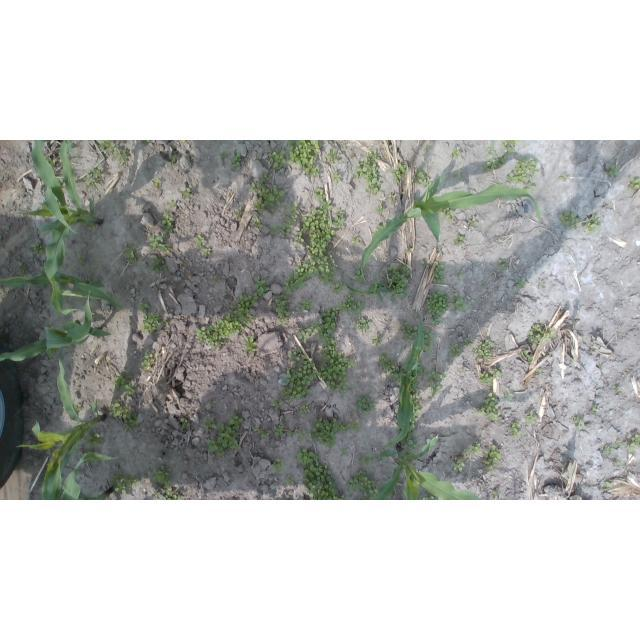Maize: (363, 176, 542, 279), (18, 141, 102, 318), (17, 358, 103, 500), (0, 287, 110, 361), (359, 436, 483, 500), (385, 313, 425, 447), (1, 273, 124, 311), (41, 448, 116, 501)
Weeds: (195, 294, 259, 348), (302, 200, 339, 285), (297, 448, 346, 501), (320, 340, 356, 395), (281, 359, 322, 402), (208, 413, 242, 459), (354, 150, 382, 195), (312, 417, 347, 448), (282, 260, 311, 297), (110, 400, 142, 430), (506, 155, 538, 185), (288, 141, 323, 168), (347, 471, 379, 500), (387, 264, 412, 300), (426, 291, 450, 326), (254, 187, 285, 214), (378, 353, 404, 384), (109, 471, 143, 493), (98, 140, 128, 164), (477, 392, 501, 422), (409, 379, 423, 429), (279, 200, 300, 233), (141, 313, 170, 335), (319, 308, 338, 341), (114, 371, 138, 395), (528, 323, 556, 343), (275, 295, 293, 326), (85, 428, 108, 450), (297, 321, 320, 343), (483, 445, 501, 472), (430, 370, 447, 398), (84, 164, 103, 189), (340, 294, 363, 314), (399, 432, 418, 456), (147, 255, 169, 275), (148, 235, 171, 254), (269, 146, 287, 170), (355, 395, 377, 414), (477, 338, 496, 360), (331, 207, 348, 231), (484, 155, 506, 173), (560, 211, 581, 229), (253, 276, 271, 296), (161, 485, 184, 500), (249, 173, 268, 191), (452, 292, 468, 313), (151, 465, 169, 483), (433, 262, 447, 285), (358, 453, 380, 467), (422, 329, 436, 351), (584, 215, 601, 233), (401, 321, 417, 340), (142, 351, 155, 373), (627, 432, 640, 453), (161, 214, 175, 233), (393, 164, 407, 183), (272, 457, 288, 473), (371, 277, 386, 294), (288, 347, 306, 361), (123, 245, 137, 263), (502, 141, 521, 154), (289, 430, 309, 442), (411, 167, 425, 184), (356, 317, 371, 332), (328, 148, 341, 165), (203, 418, 218, 431), (255, 427, 270, 440), (454, 459, 467, 474), (572, 417, 585, 432), (347, 421, 364, 432), (299, 299, 313, 312), (449, 344, 463, 357), (355, 269, 368, 283), (627, 176, 640, 190), (244, 336, 256, 351), (302, 167, 320, 177), (511, 422, 522, 438), (252, 216, 264, 230), (32, 242, 44, 256), (524, 409, 536, 423), (443, 207, 457, 219), (231, 151, 241, 167), (487, 140, 497, 156), (181, 418, 194, 430), (267, 223, 280, 235), (194, 233, 206, 246), (313, 187, 325, 200), (479, 372, 492, 384), (463, 335, 476, 347), (417, 362, 428, 376), (298, 402, 310, 414), (608, 166, 620, 178), (284, 473, 295, 486), (293, 230, 303, 244), (492, 368, 503, 380), (499, 260, 510, 272), (271, 399, 284, 409), (139, 300, 149, 313), (470, 444, 480, 457), (523, 183, 537, 192), (469, 217, 480, 228), (181, 187, 193, 197), (76, 251, 86, 263), (332, 282, 344, 292), (425, 493, 442, 500), (422, 438, 431, 451), (167, 156, 177, 167), (45, 155, 56, 165), (451, 147, 462, 157), (524, 350, 533, 362), (421, 260, 431, 270), (68, 146, 78, 156), (17, 261, 24, 275), (506, 391, 515, 401), (518, 277, 527, 287), (615, 439, 625, 448), (388, 193, 396, 204), (455, 236, 464, 245), (604, 444, 613, 453), (559, 173, 568, 182), (275, 427, 283, 437), (204, 247, 212, 257), (332, 171, 340, 181), (153, 179, 161, 189), (57, 176, 65, 186), (456, 271, 464, 281), (376, 223, 387, 230), (76, 404, 85, 412), (376, 204, 384, 213), (591, 404, 599, 413), (374, 335, 381, 345), (352, 234, 359, 244), (219, 151, 228, 158), (425, 180, 432, 189), (605, 481, 613, 488), (455, 173, 462, 181), (341, 448, 348, 456), (493, 488, 499, 497), (88, 223, 97, 229), (615, 385, 622, 392), (425, 145, 432, 152), (168, 201, 176, 207), (406, 247, 414, 253), (212, 275, 217, 284), (235, 208, 241, 215), (208, 400, 216, 405), (616, 461, 622, 467), (569, 357, 576, 362), (141, 140, 149, 144), (535, 368, 541, 373), (180, 140, 186, 144), (541, 284, 544, 287)
